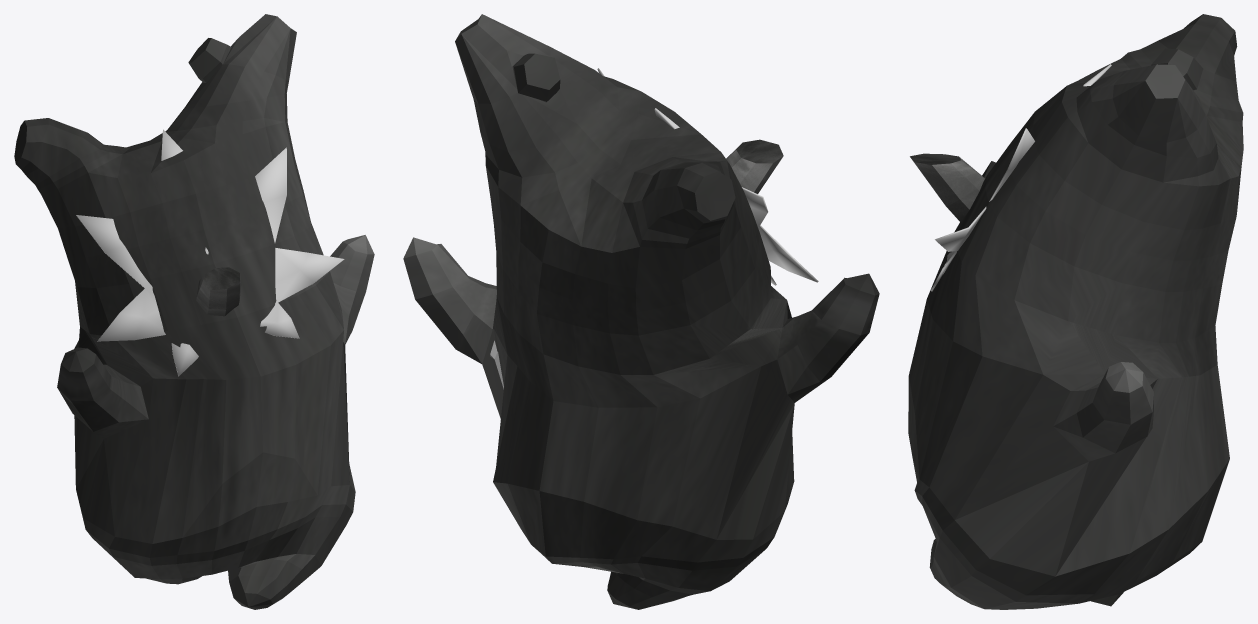
File: frame_0031.obj
3 views of the same model, side by side, from view 1: azimuth 30°, elevation 25°; view 2: azimuth 150°, elevation 25°; view 3: azimuth 270°, elevation 25° (orthographic). The views are drawn at different scales.
Parts seen in each view (by area): view 1: korok, leaf, nose; view 2: korok, nose, leaf; view 3: korok, nose, leaf.
Boxes of the visible parts, box(x1,y1,x2,y2) form: korok: box(14, 14, 374, 609); leaf: box(76, 129, 344, 376); nose: box(196, 267, 241, 316); korok: box(403, 14, 879, 609); nose: box(726, 139, 783, 193); leaf: box(597, 68, 818, 285); korok: box(908, 14, 1243, 609); nose: box(910, 153, 985, 221); leaf: box(930, 64, 1111, 291).
Size of the model in its own units: 1.67 by 2.26 by 1.15.
